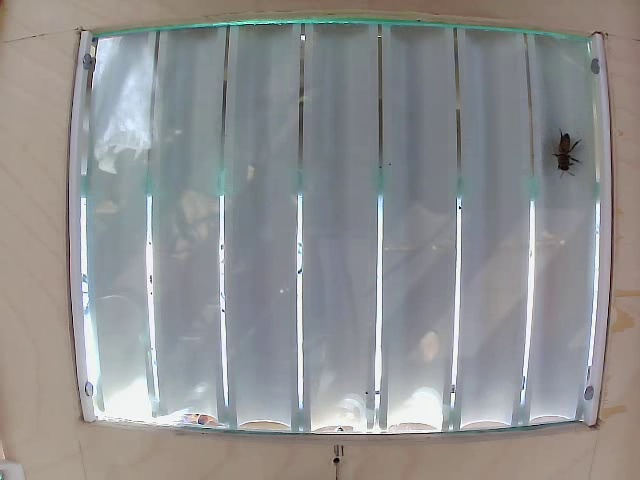bee: (534, 133, 582, 188)
